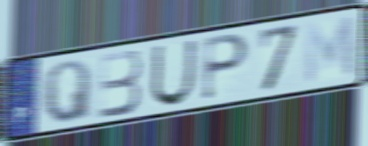7: (257, 21, 302, 95)
B: (97, 47, 144, 121)
M: (303, 13, 358, 87)
P: (200, 32, 251, 103)
Q: (41, 58, 93, 126)
U: (149, 38, 199, 109)
